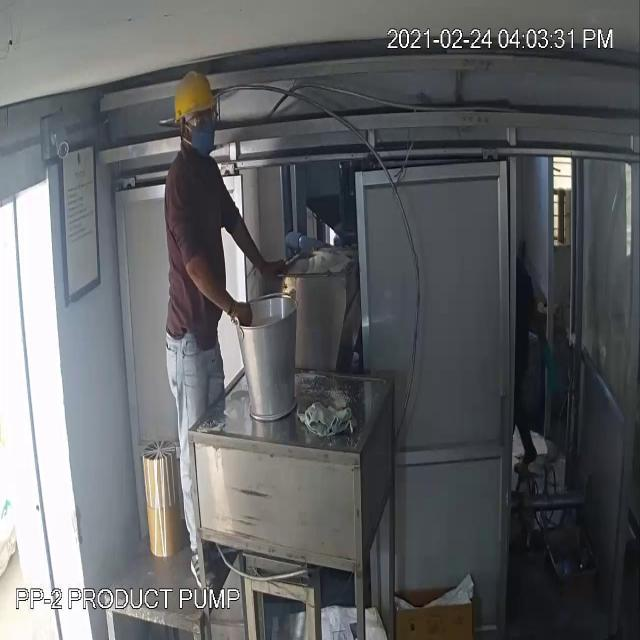helmet: (169, 65, 221, 135)
